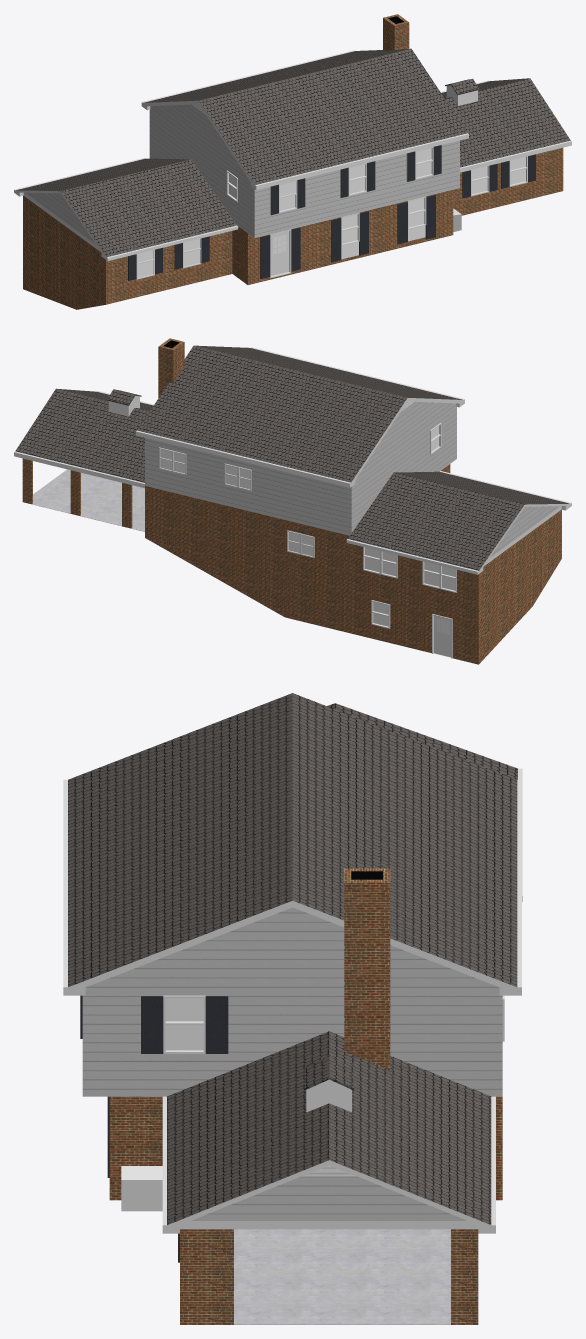
The model's file is wheeler_house.glb.
3 views of the same model, one above another, from view 1: azimuth 30°, elevation 25°; view 2: azimuth 150°, elevation 25°; view 3: azimuth 270°, elevation 25° (orthographic). The views are drawn at different scales.
Visible parts, largest first — view 1: Material2 (×7); view 2: Material2 (×6); view 3: Material2 (×7).
Part boxes in pixels (left/top/right/bottom): Material2 (×7): left=14, top=14, right=571, bottom=309; Material2 (×6): left=14, top=338, right=571, bottom=664; Material2 (×7): left=63, top=693, right=522, bottom=1324.
Bounding box in the file's own units: 1003 × 432 × 426.
12 materials, 8 textured.
